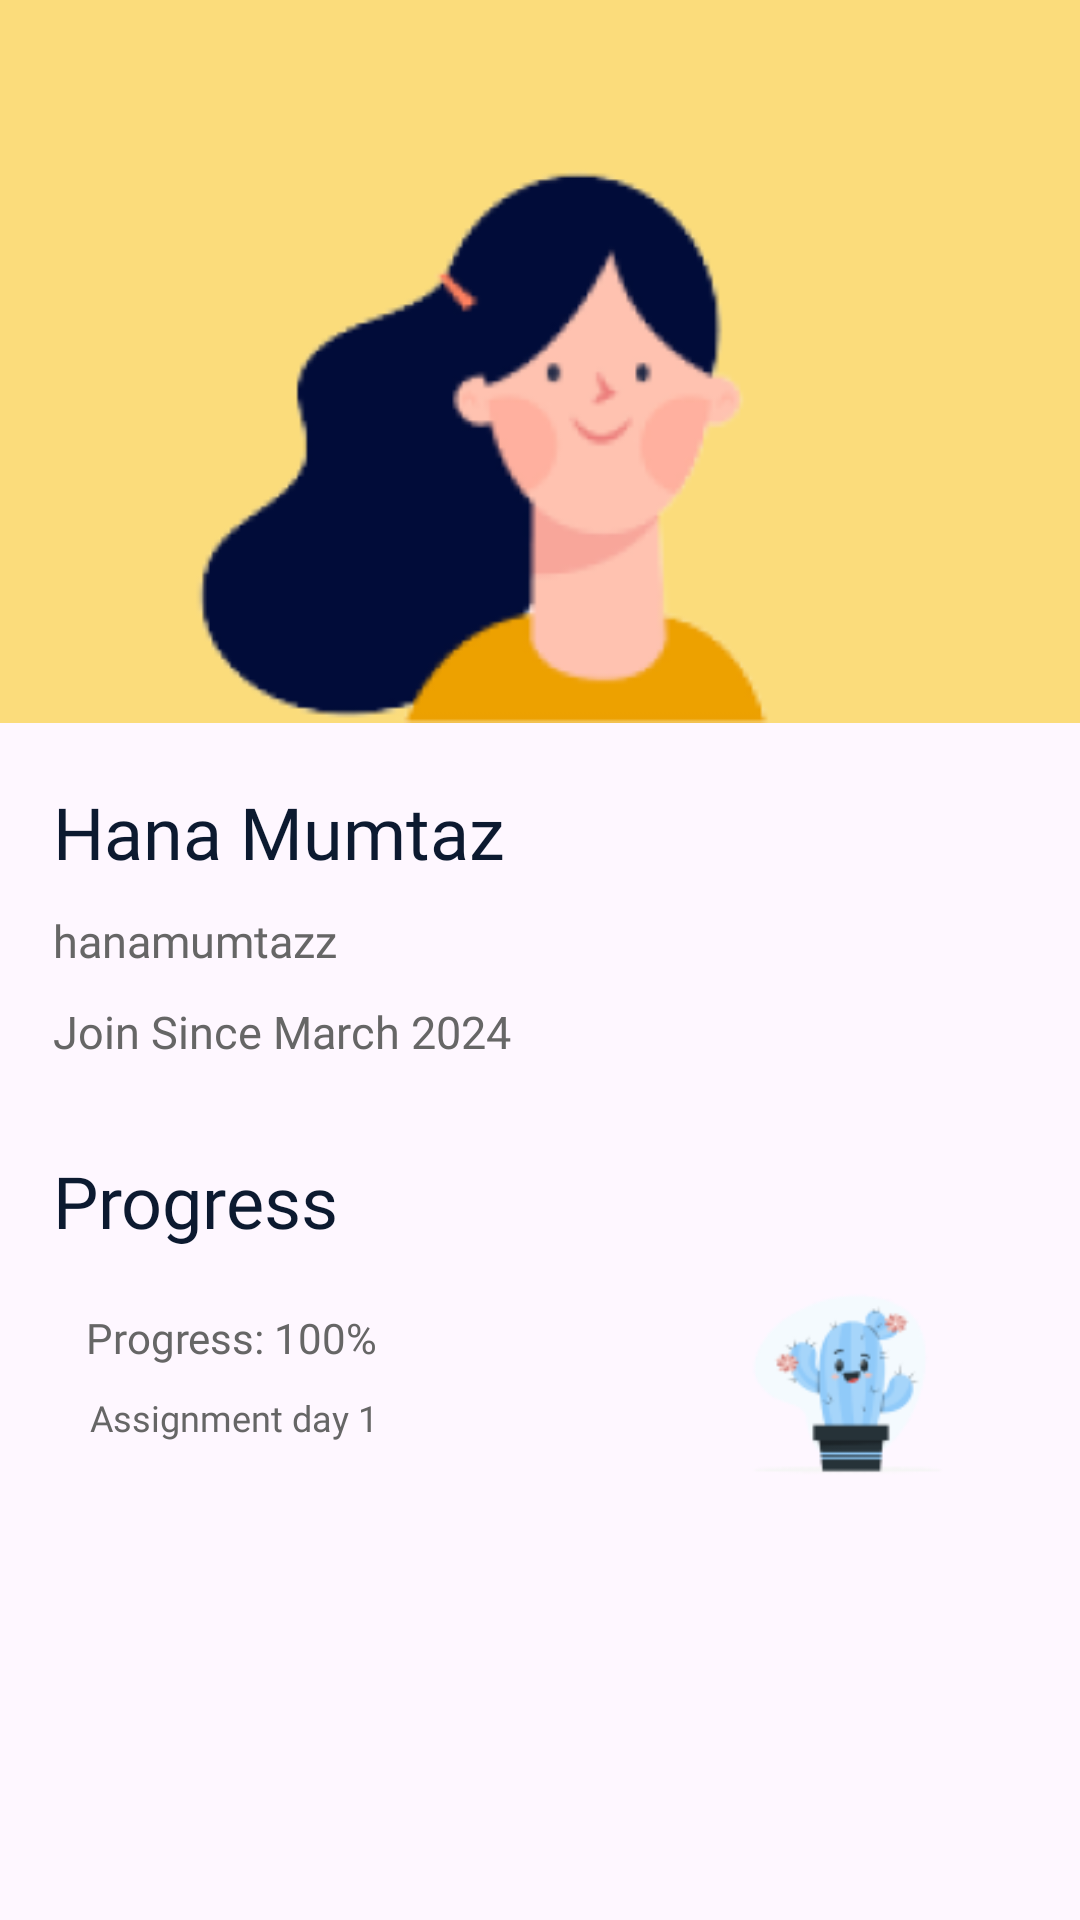

Screen size 1080w x 1920h. Icon name, then its box in pixels as (x1, y1, x2, y2):
kaktus: (776, 1308, 918, 1472)
